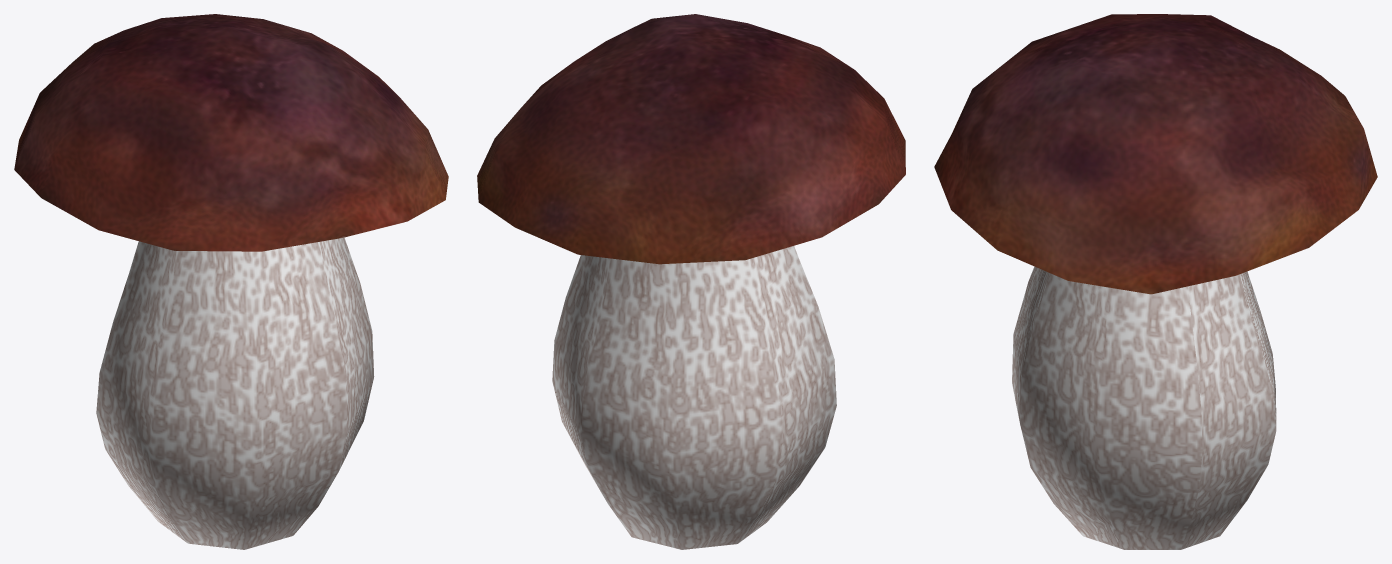
File: boletus.FBX
3 renders of one model, left to right at view 1: azimuth 30°, elevation 25°; view 2: azimuth 150°, elevation 25°; view 3: azimuth 270°, elevation 25°, orthographic.
Parts seen in each view (by area): view 1: boletus; view 2: boletus; view 3: boletus.
Boxes of the visible parts, left/top/right/bottom form: boletus: left=14, top=14, right=448, bottom=549; boletus: left=477, top=14, right=905, bottom=549; boletus: left=934, top=14, right=1377, bottom=549.
Bounding box in the file's own units: 0.8295 × 1.07 × 0.8482.
Materials: 1 (1 with a texture image).
